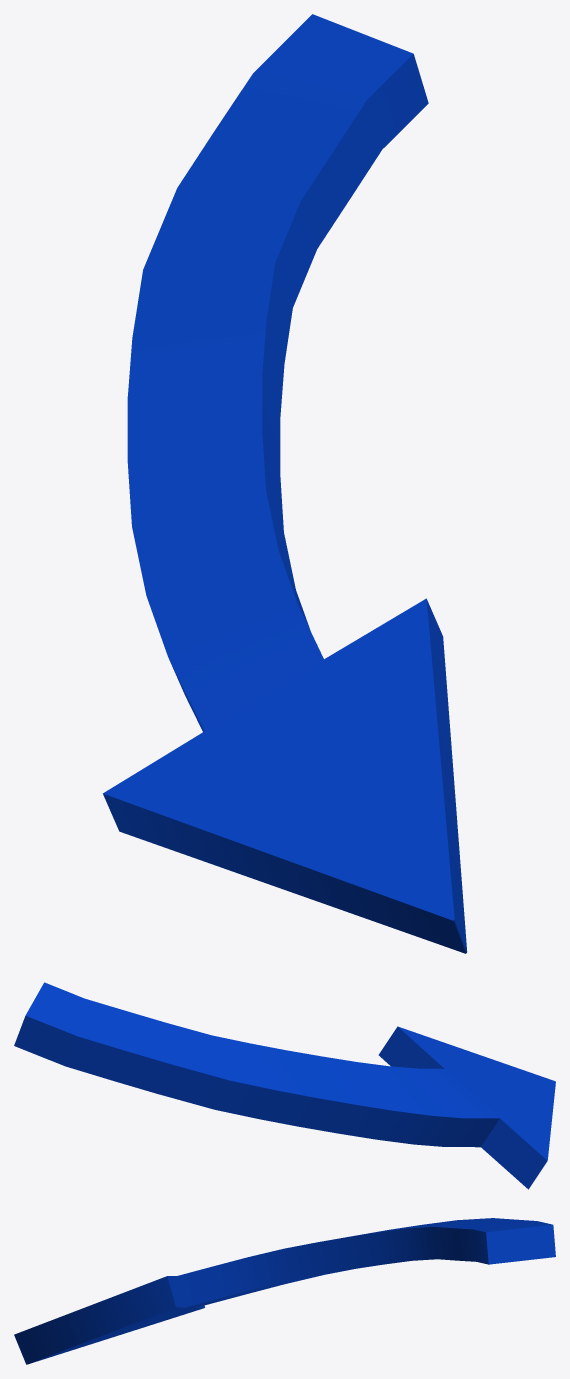
File: Arrow02.fbx
3 renders of one model, top to bottom at view 1: azimuth 30°, elevation 25°; view 2: azimuth 150°, elevation 25°; view 3: azimuth 270°, elevation 25°, orthographic. The views are drawn at different scales.
Parts seen in each view (by area): view 1: Cube.101; view 2: Cube.101; view 3: Cube.101.
Part boxes in pixels (left/top/right/bottom): Cube.101: left=103, top=14, right=467, bottom=953; Cube.101: left=14, top=982, right=555, bottom=1189; Cube.101: left=14, top=1218, right=555, bottom=1364.
Bounding box in the file's own units: 1.33 × 0.953 × 2.02.
